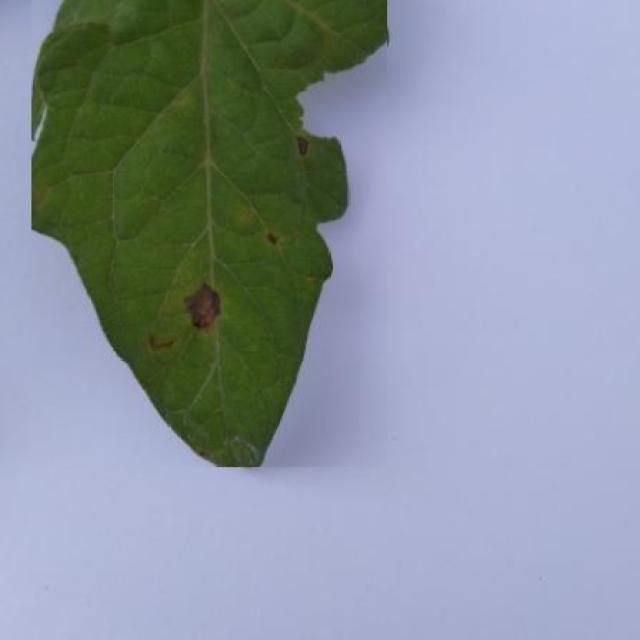Early Blight: (32, 0, 387, 467)
